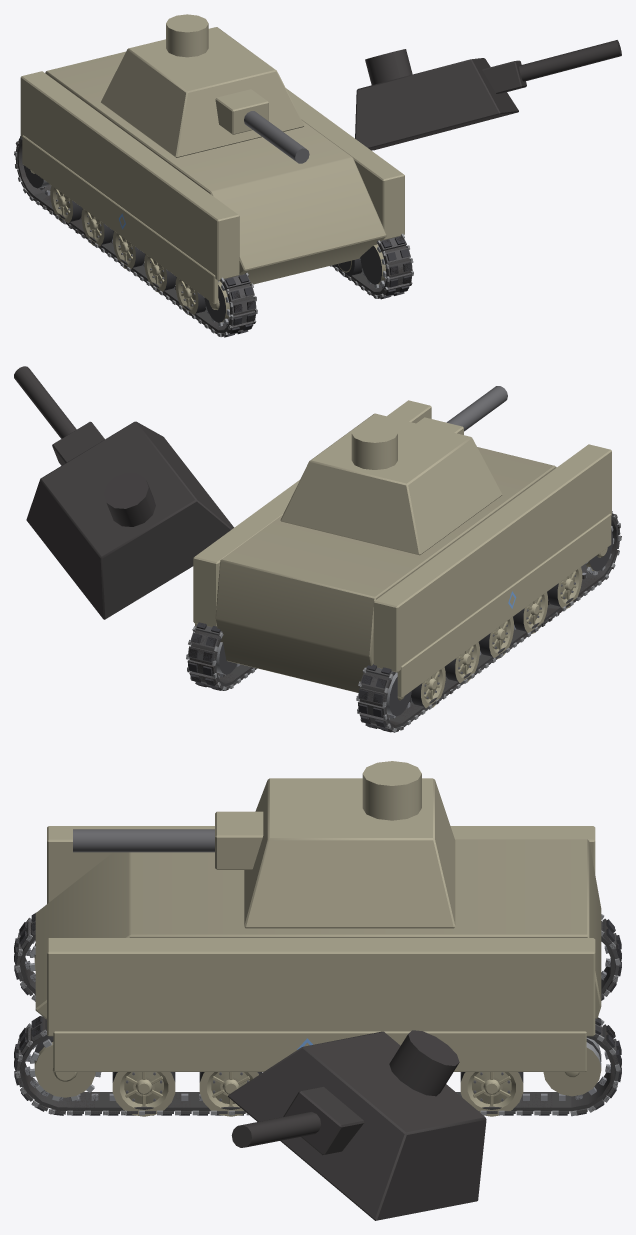
Rendered from aaVehicle__k263a3_vulcan.glb.
3 views of the same model, one above another, from view 1: azimuth 30°, elevation 25°; view 2: azimuth 150°, elevation 25°; view 3: azimuth 270°, elevation 25° (orthographic). The views are drawn at different scales.
Parts seen in each view (by area): view 1: Hull_Mesh, Turret_Mesh, Wreck, Track_L_Mesh, Gun_Mesh, Track_R_Mesh, Sprocket_R_Mesh, Wheel_L1_Mesh, Wheel_L0_Mesh, Wheel_L2_Mesh, Wheel_L3_Mesh, Wheel_L4_Mesh (+1 smaller); view 2: Hull_Mesh, Wreck, Turret_Mesh, Track_L_Mesh, Track_R_Mesh, Gun_Mesh, Wheel_L0_Mesh, Wheel_L4_Mesh, Wheel_L1_Mesh, Wheel_L2_Mesh, Wheel_L3_Mesh, Idler_L_Mesh; view 3: Hull_Mesh, Wreck, Turret_Mesh, Track_R_Mesh, Gun_Mesh, Track_L_Mesh, Wheel_R4_Mesh, Wheel_R0_Mesh, Sprocket_R_Mesh, Wheel_R3_Mesh, Idler_R_Mesh.
Part boxes in pixels (left/top/right/bottom): Hull_Mesh: left=20, top=51, right=404, bottom=304; Turret_Mesh: left=101, top=14, right=304, bottom=157; Wreck: left=15, top=40, right=621, bottom=336; Track_L_Mesh: left=14, top=136, right=257, bottom=337; Gun_Mesh: left=215, top=89, right=309, bottom=163; Track_R_Mesh: left=330, top=233, right=413, bottom=299; Sprocket_R_Mesh: left=359, top=244, right=386, bottom=288; Wheel_L1_Mesh: left=81, top=208, right=113, bottom=245; Wheel_L0_Mesh: left=50, top=185, right=82, bottom=224; Wheel_L2_Mesh: left=113, top=231, right=145, bottom=269; Wheel_L3_Mesh: left=144, top=254, right=176, bottom=292; Wheel_L4_Mesh: left=175, top=277, right=205, bottom=315; Hull_Mesh: left=193, top=400, right=611, bottom=697; Wreck: left=14, top=366, right=621, bottom=732; Turret_Mesh: left=280, top=413, right=502, bottom=555; Track_L_Mesh: left=356, top=511, right=621, bottom=732; Track_R_Mesh: left=186, top=622, right=257, bottom=690; Gun_Mesh: left=416, top=386, right=507, bottom=434; Wheel_L0_Mesh: left=409, top=667, right=445, bottom=707; Wheel_L4_Mesh: left=547, top=567, right=582, bottom=608; Wheel_L1_Mesh: left=444, top=642, right=479, bottom=683; Wheel_L2_Mesh: left=478, top=617, right=513, bottom=659; Wheel_L3_Mesh: left=513, top=592, right=547, bottom=634; Idler_L_Mesh: left=386, top=672, right=411, bottom=716; Hull_Mesh: left=35, top=826, right=601, bottom=1071; Wreck: left=14, top=914, right=621, bottom=1220; Turret_Mesh: left=244, top=761, right=455, bottom=928; Track_R_Mesh: left=14, top=1015, right=621, bottom=1116; Gun_Mesh: left=73, top=811, right=263, bottom=869; Track_L_Mesh: left=14, top=913, right=621, bottom=1000; Wheel_R4_Mesh: left=112, top=1072, right=175, bottom=1116; Wheel_R0_Mesh: left=460, top=1072, right=523, bottom=1116; Sprocket_R_Mesh: left=29, top=1036, right=101, bottom=1101; Wheel_R3_Mesh: left=199, top=1072, right=262, bottom=1116; Idler_R_Mesh: left=543, top=1038, right=601, bottom=1096.
Size of what is drawn, in the model's own units: 7.22 by 2.94 by 5.73.
